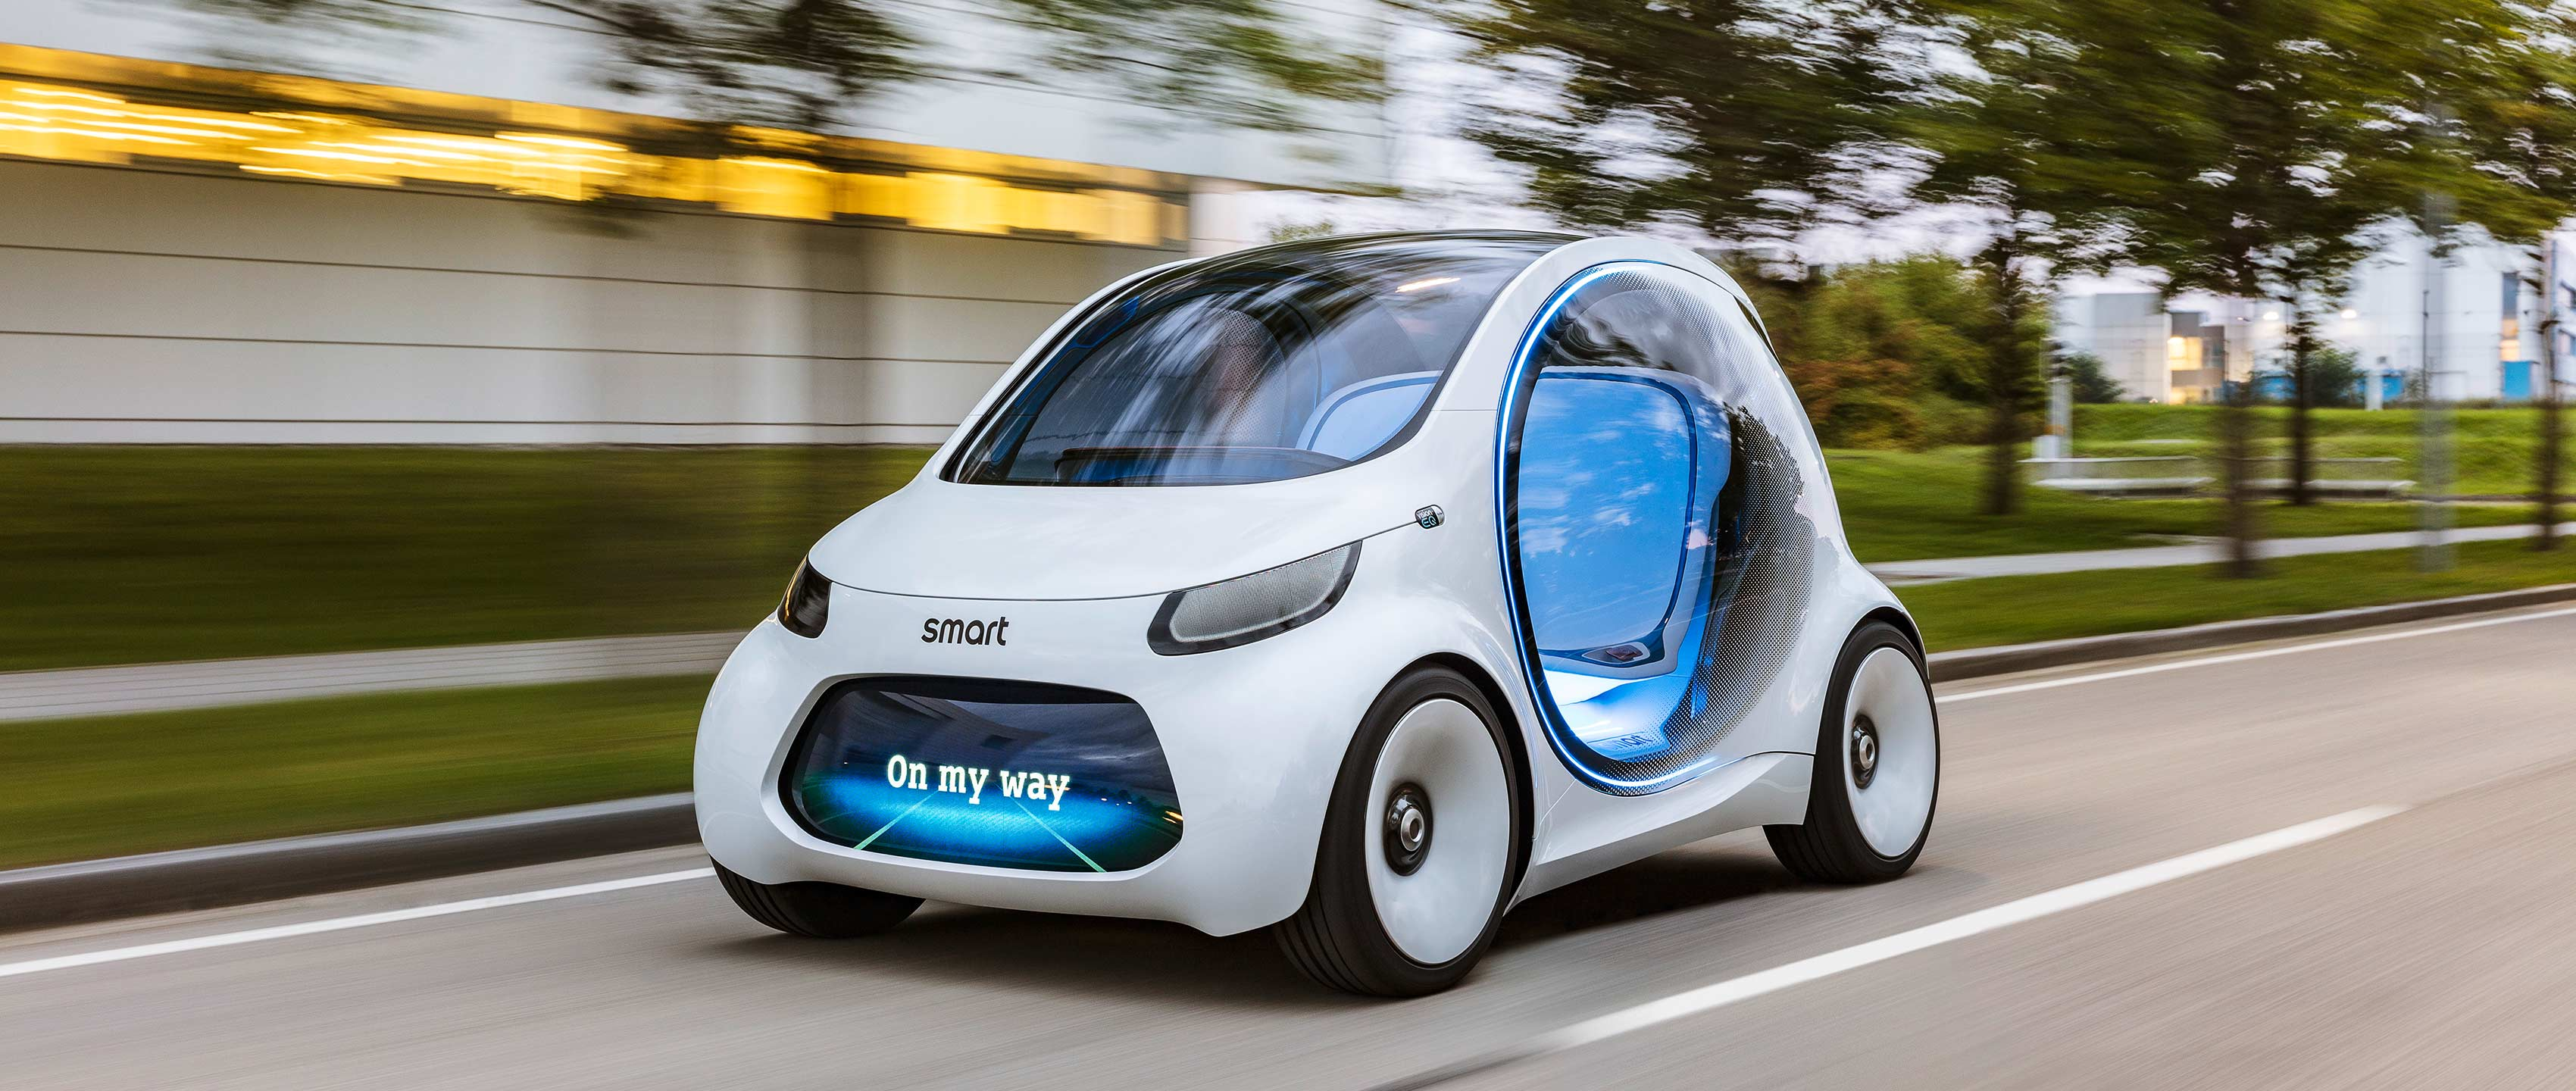Carro: (675, 207, 1952, 979)
